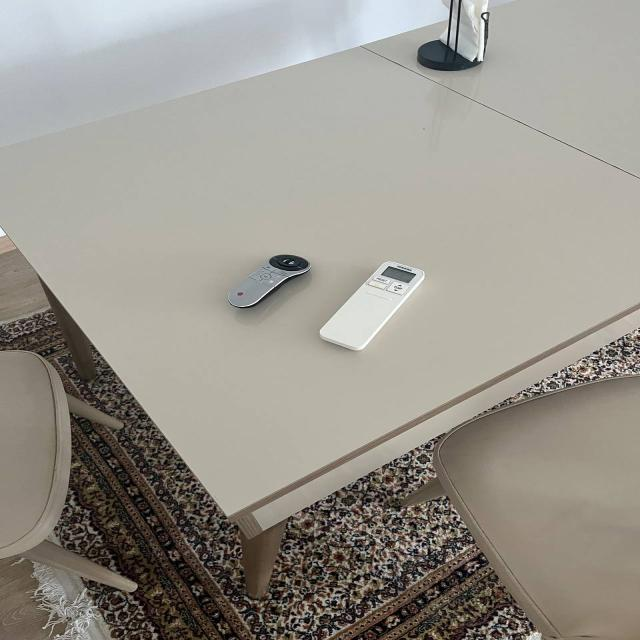remote: (323, 248, 426, 364), (214, 246, 313, 322)
